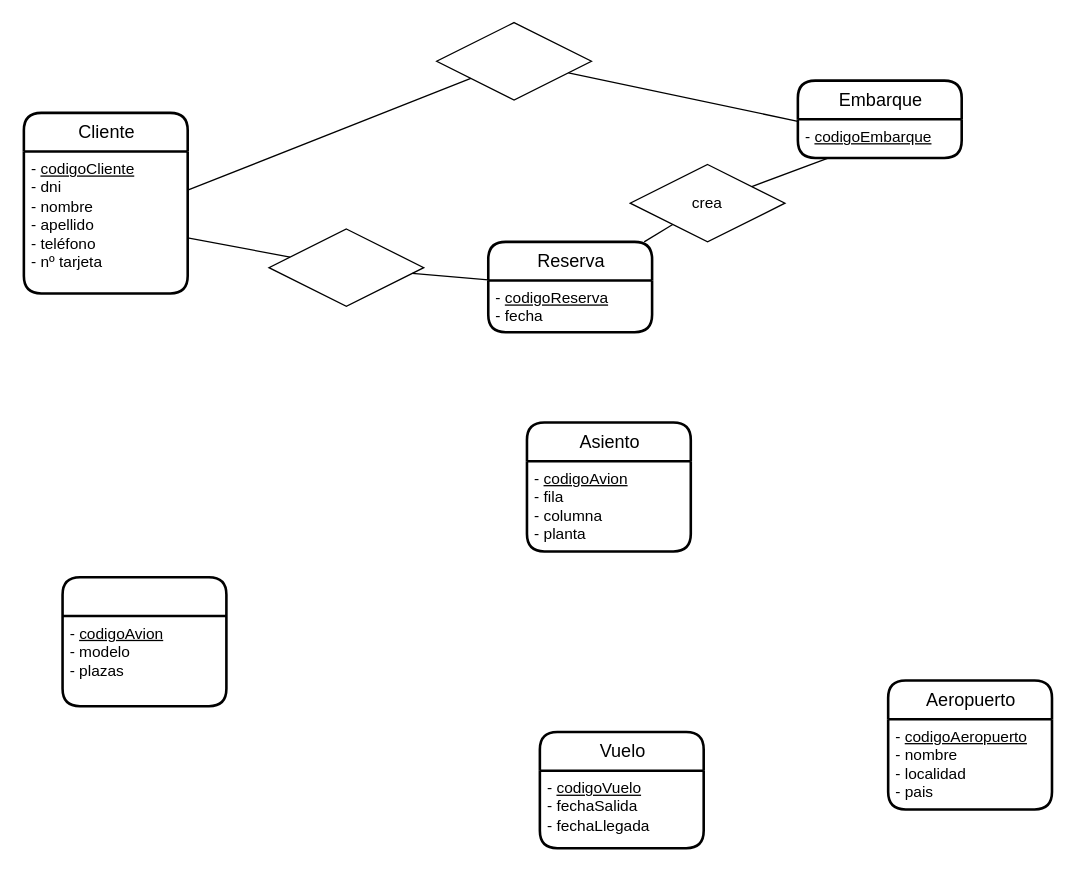
This 1075x872 diagram has some shape labels left out. Each missing label, with the box of its shape:
Avión: (61, 575, 227, 707)
hace: (268, 228, 424, 306)
obtiene: (435, 21, 591, 100)
